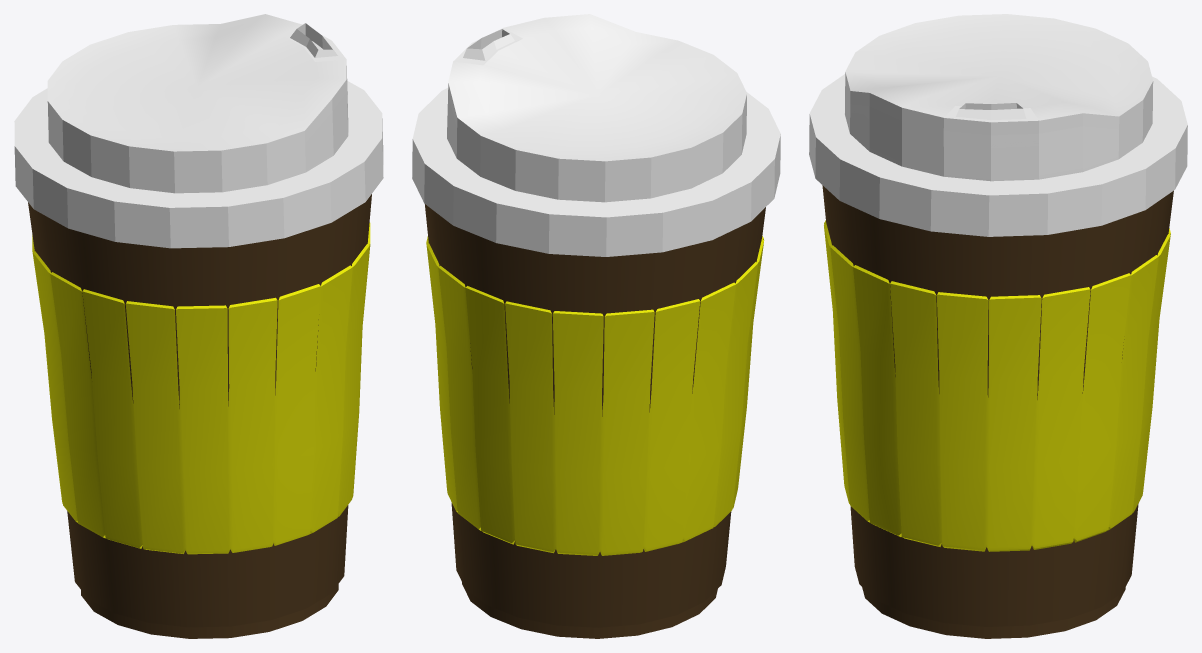
Rendered from cup.fbx.
The picture shows the model from 3 angles, left to right: view 1: azimuth 30°, elevation 25°; view 2: azimuth 150°, elevation 25°; view 3: azimuth 270°, elevation 25°; orthographic projection. The views are drawn at different scales.
Parts seen in each view (by area): view 1: spotLight4; view 2: spotLight4; view 3: spotLight4.
Part boxes in pixels (x1=…): spotLight4: x1=14, y1=14, x2=383, y2=638; spotLight4: x1=412, y1=14, x2=780, y2=638; spotLight4: x1=809, y1=14, x2=1187, y2=638.
Bounding box in the file's own units: 2.28 × 3.54 × 2.27.
